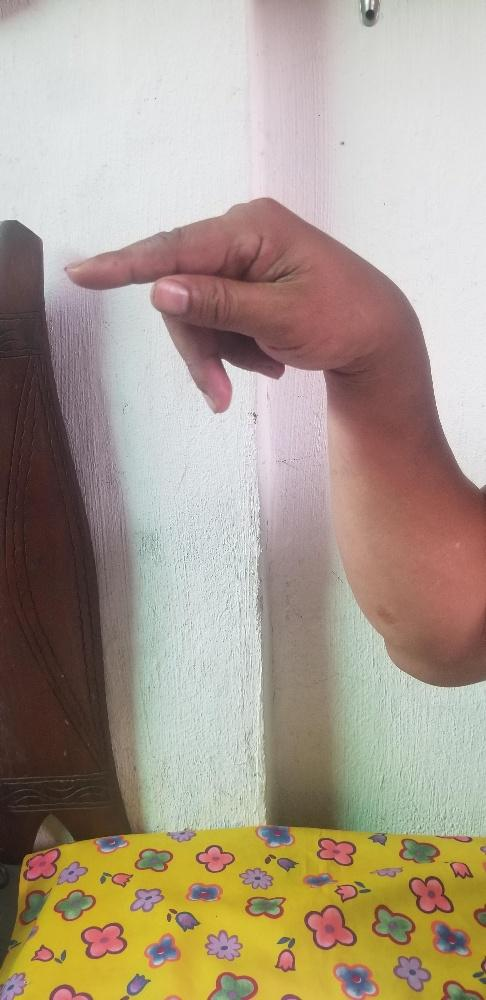p: (62, 195, 386, 413)
